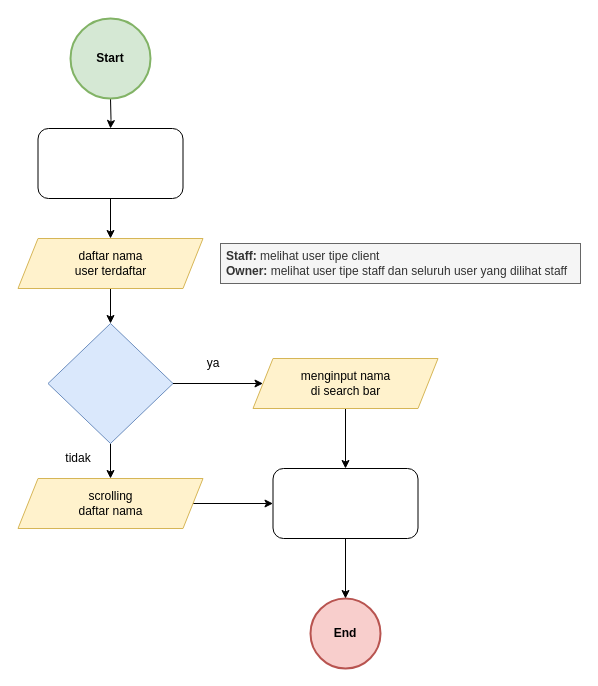
Image size: 598x686. Some labels were removed from this diagram. The centre of each missing label's shape, as x and y in pixels:
ingin mencari nama spesifik?: pixel 110 383
membuka tab "management": pixel 110 163
menemukan nama user terdaftar yang ingin dicari: pixel 345 503
